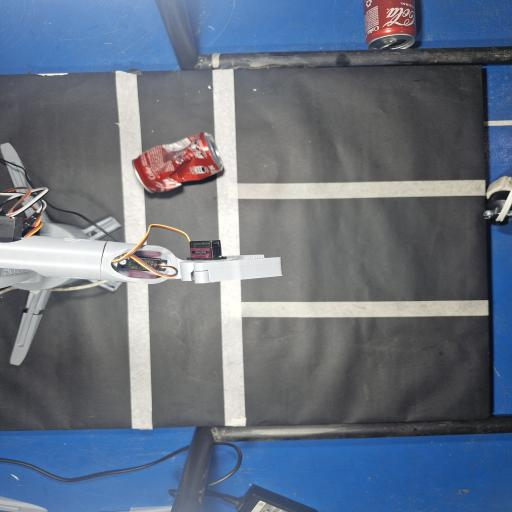lata_defectuoso: (132, 133, 220, 192)
